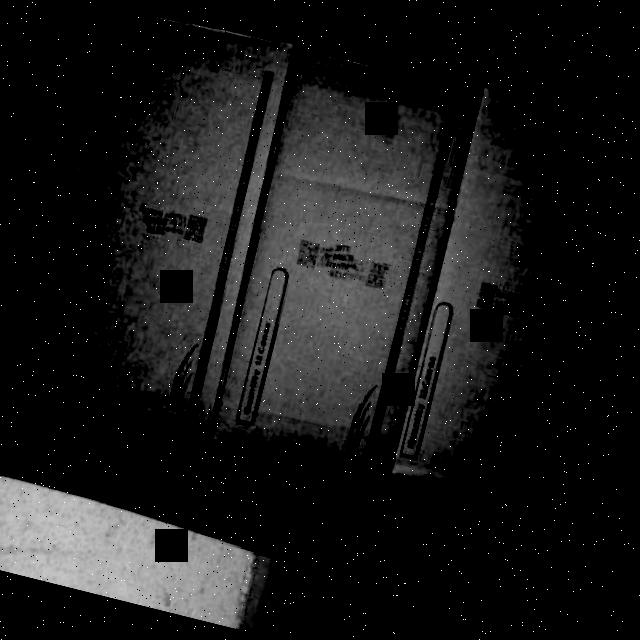box: (18, 4, 303, 438), (211, 50, 485, 474), (391, 90, 640, 515)
